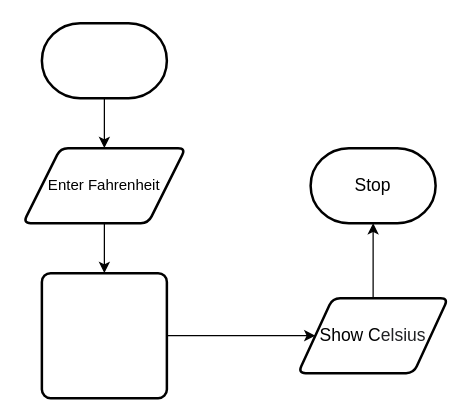
This 470x420 diagram has some shape labels left out. Each missing label, with the centre of its shape:
"Convert Fahrenheit into Celsius using (a °F - 32) x 5/9" belongs at (x=104, y=335).
"Start" belongs at (x=104, y=60).
